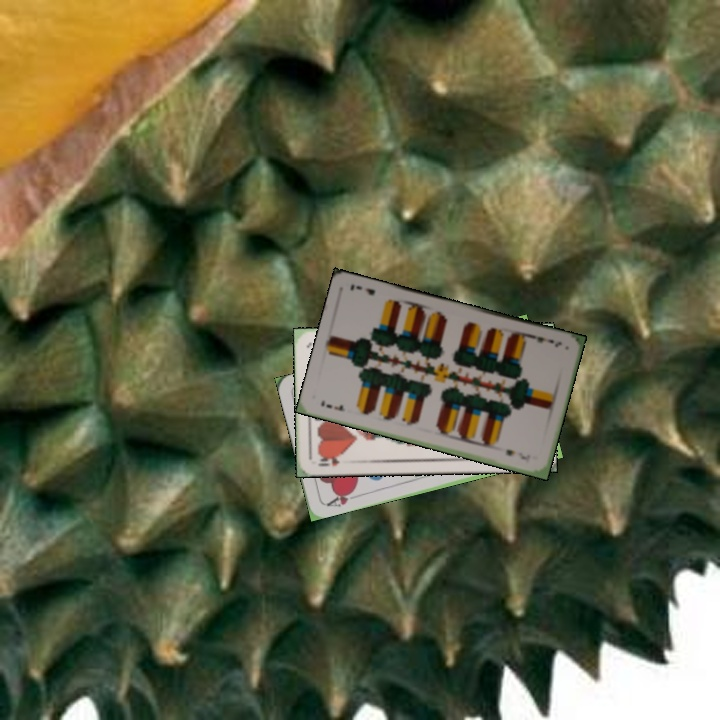E7: (527, 331, 564, 349), (316, 396, 347, 414)
HA: (322, 486, 362, 510)
HO: (314, 452, 344, 469)
